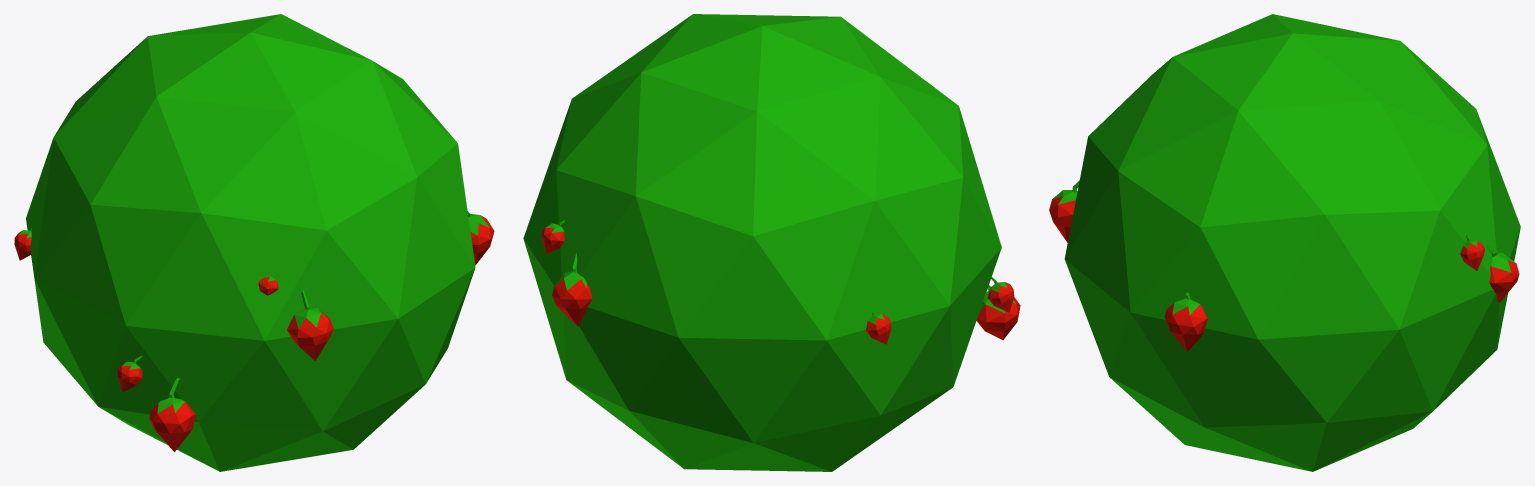
The model's file is Berry.fbx.
The picture shows the model from 3 angles, left to right: view 1: azimuth 30°, elevation 25°; view 2: azimuth 150°, elevation 25°; view 3: azimuth 270°, elevation 25°; orthographic projection. The views are drawn at different scales.
Parts seen in each view (by area): view 1: berry.001; view 2: berry.001; view 3: berry.001.
Boxes of the visible parts, x1=… form: berry.001: x1=14, y1=14, x2=494, y2=471; berry.001: x1=523, y1=14, x2=1020, y2=471; berry.001: x1=1049, y1=14, x2=1520, y2=471.
Bounding box in the file's own units: 165 × 155 × 170.
